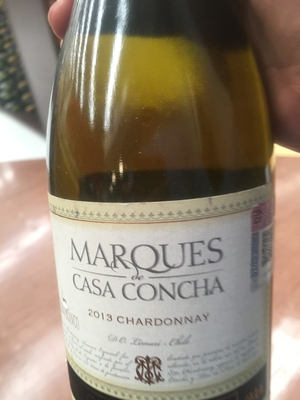marques de casa concha chardonnay: (47, 2, 289, 400)
